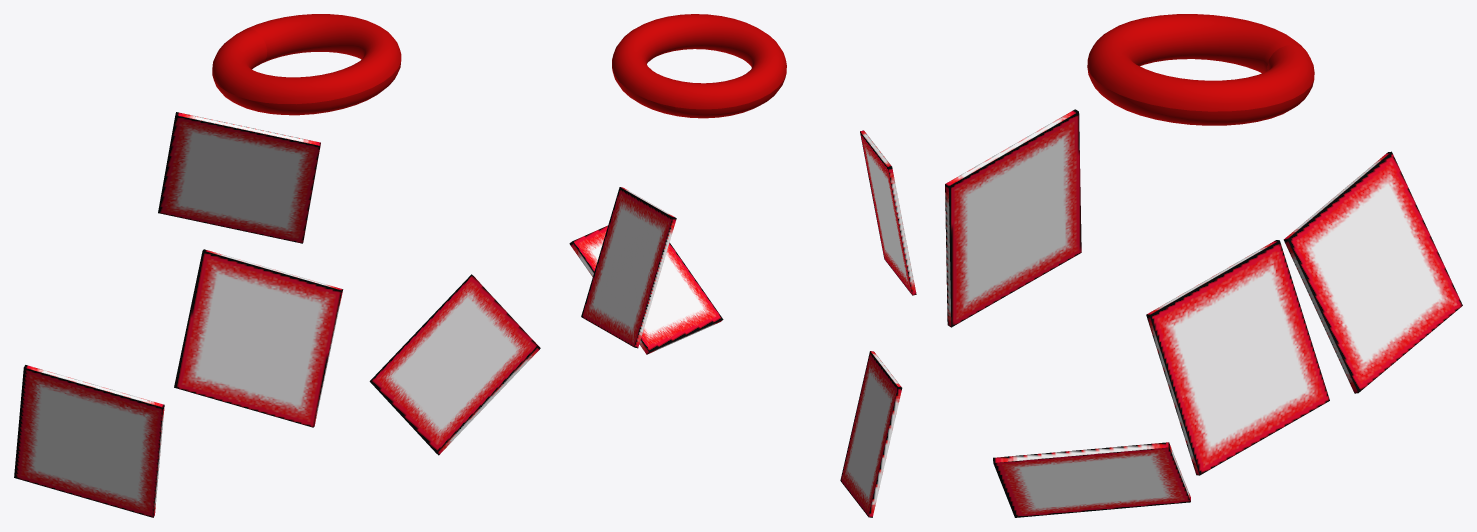
File: bouncelevel4panels.fbx
3 views of the same model, side by side, from view 1: azimuth 30°, elevation 25°; view 2: azimuth 150°, elevation 25°; view 3: azimuth 270°, elevation 25° (orthographic). The views are drawn at different scales.
Visible parts, largest first — view 1: Torus; view 2: Torus; view 3: Torus.
Boxes of the visible parts, x1,y1,x2,y2 form: Torus: (14, 14, 540, 517); Torus: (569, 14, 916, 517); Torus: (945, 14, 1462, 517).
Size of the model in its own units: 948 by 975 by 874.
Materials: 1 (1 with a texture image).
